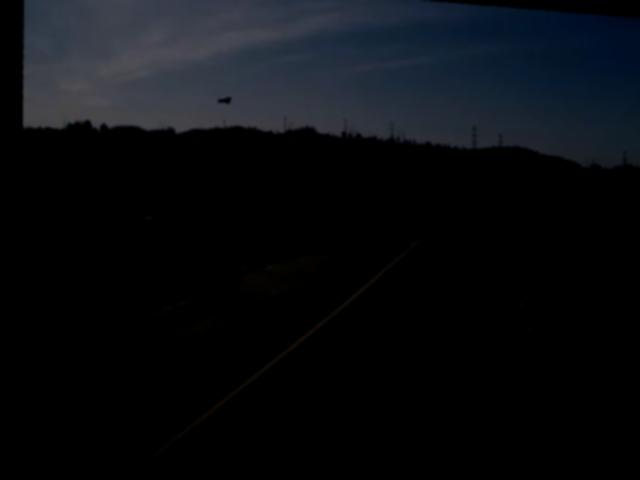iha: (216, 97, 229, 105)
